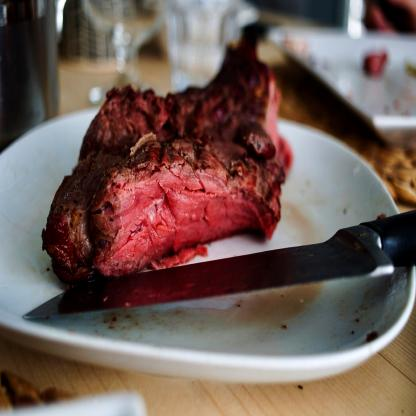Carne: (44, 66, 290, 285)
